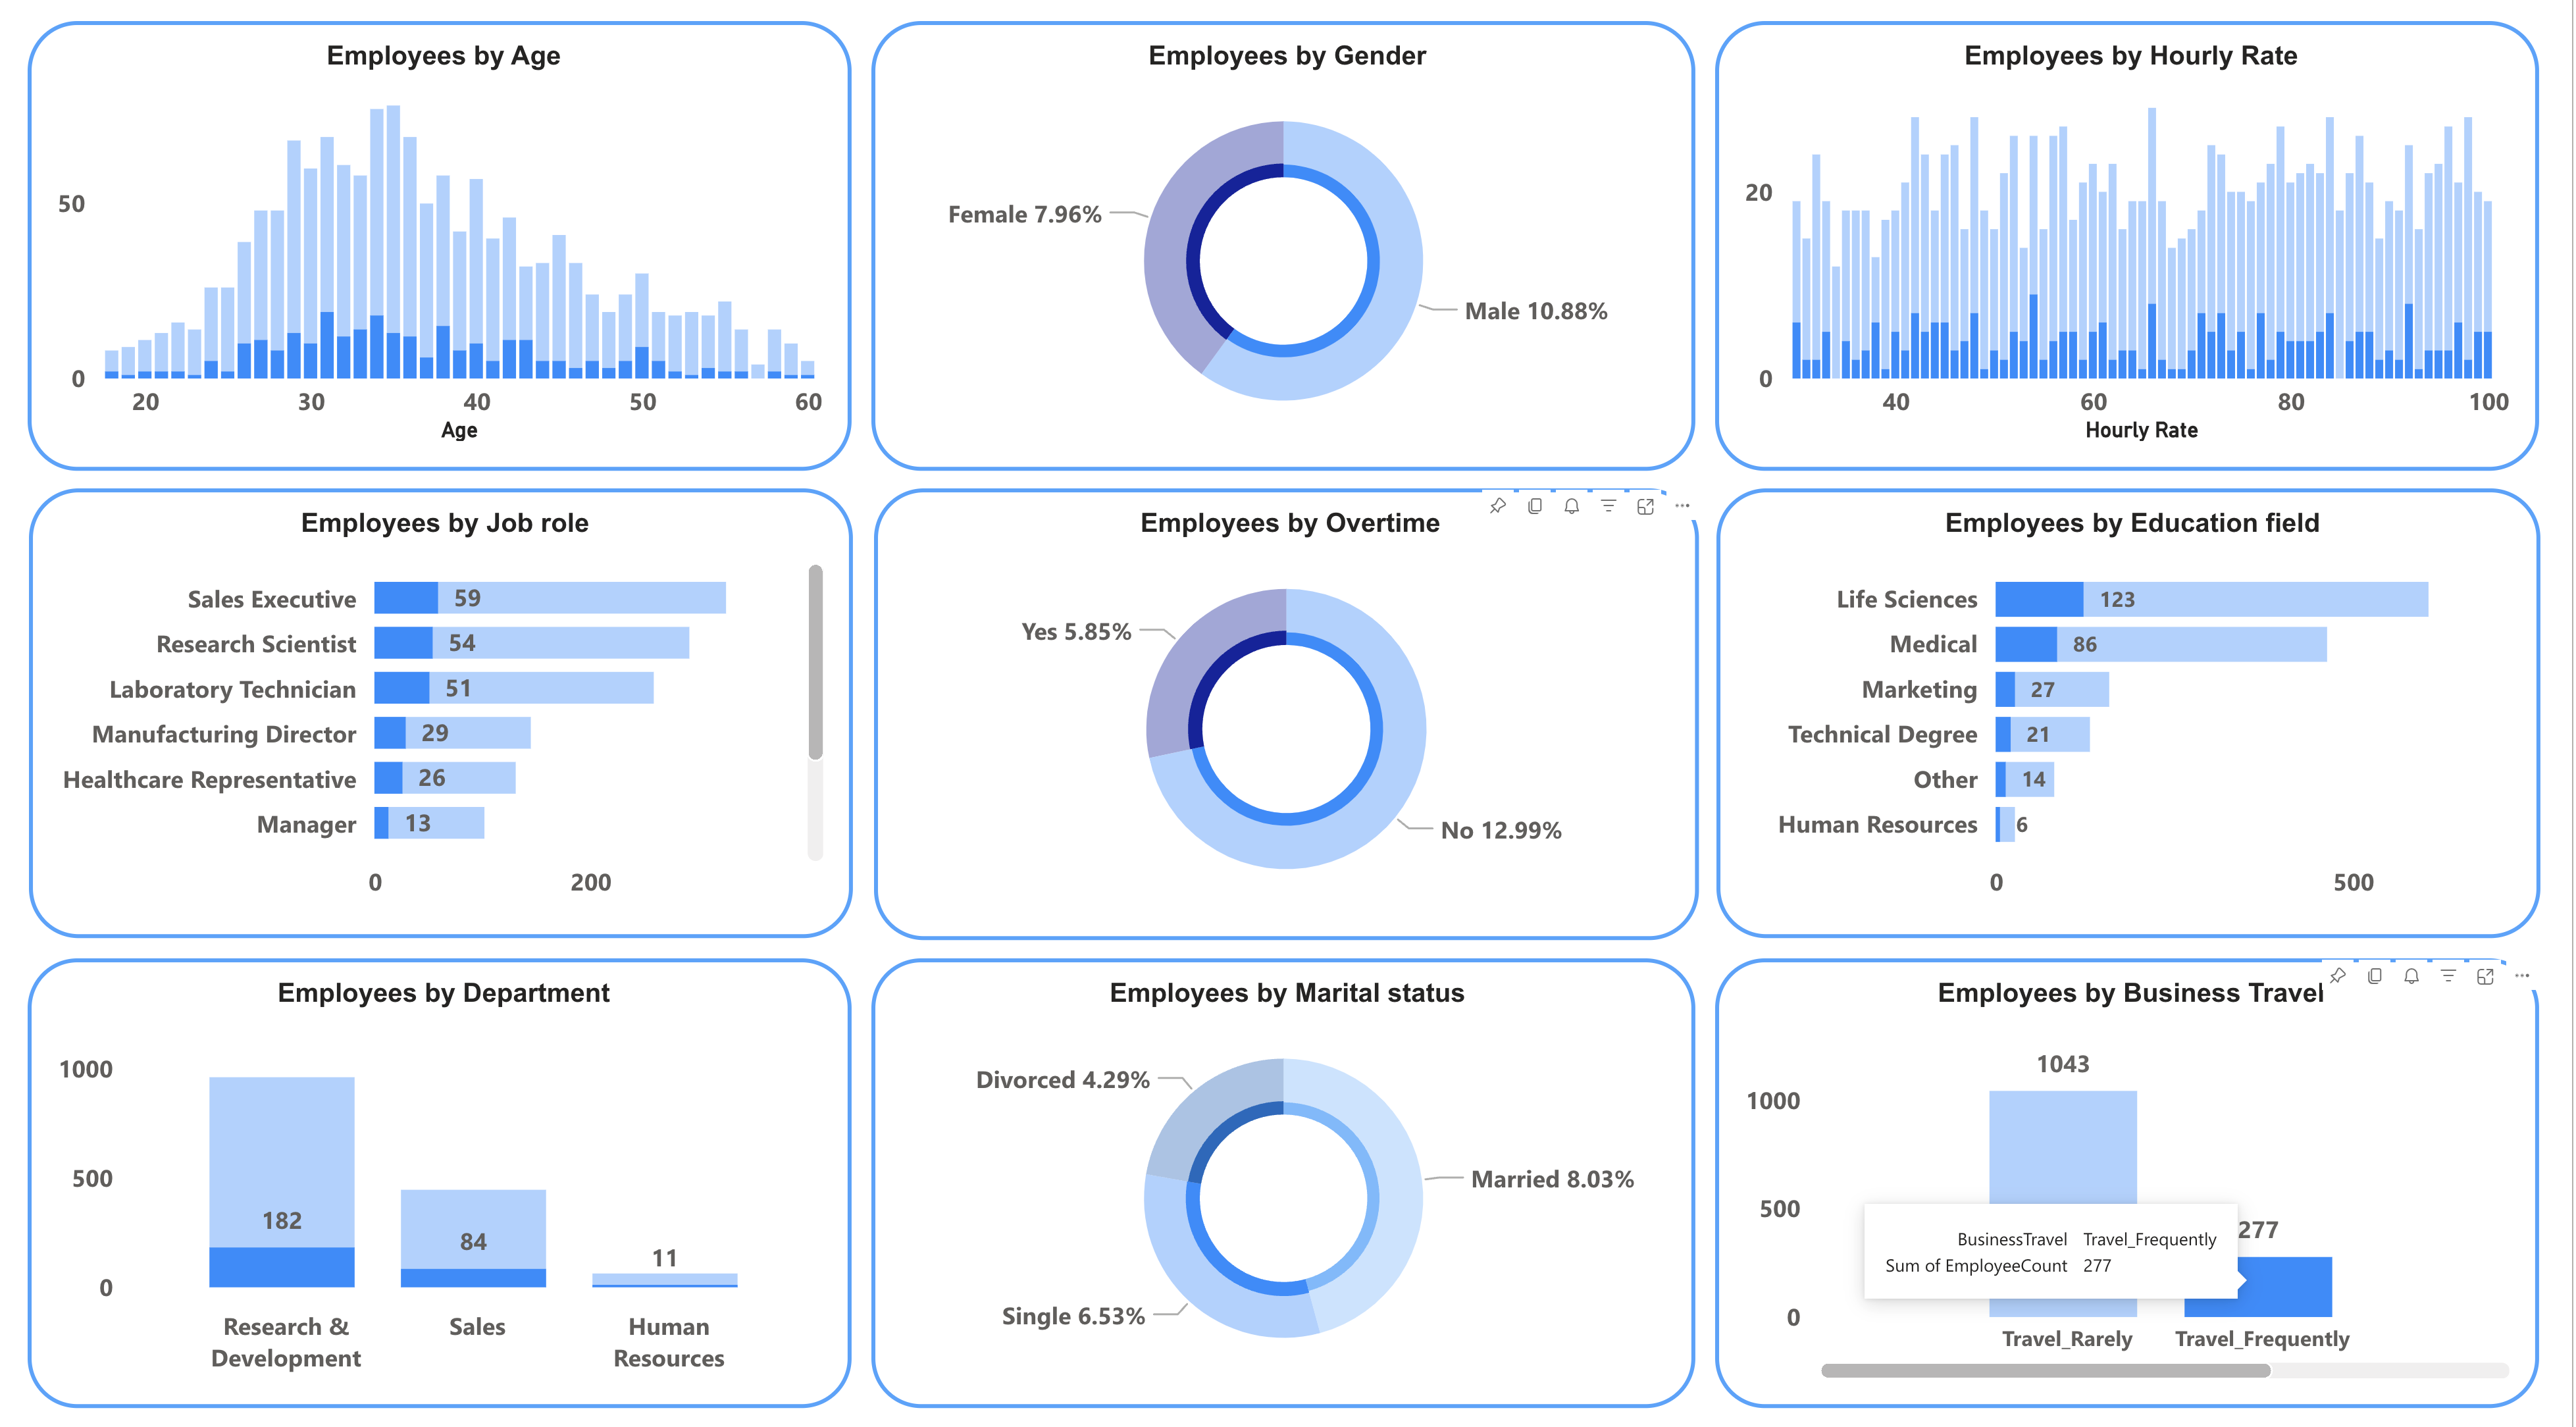

The dashboard page shown, as its layout file describes it:
{"tool":"powerbi","page":{"name":"Page 1","canvas":[1280,720],"ordinal":0},"visuals":[{"type":"columnChart","title":"Employees by Age","fields":{"Category":["IBM data.Age"],"Y":["Sum(IBM data.EmployeeCount)"]},"box":[6.5,12.1,415.2,226.6],"z":0},{"type":"donutChart","title":"Employees by Gender","fields":{"Y":["Sum(IBM data.EmployeeCount)"],"Category":["IBM data.Gender"]},"box":[431.9,12.1,415.2,226.6],"z":1000},{"type":"columnChart","title":"Employees by Hourly Rate","fields":{"Y":["Sum(IBM data.EmployeeCount)"],"Category":["IBM data.HourlyRate"]},"box":[856.4,12.1,415.2,226.6],"z":2000},{"type":"barChart","title":"Employees by Education field","fields":{"Y":["Sum(IBM data.EmployeeCount)"],"Category":["IBM data.EducationField"]},"box":[857.4,247.1,415.2,226.6],"z":3000},{"type":"donutChart","title":"Employees by Marital status","fields":{"Y":["Sum(IBM data.EmployeeCount)"],"Category":["IBM data.MaritalStatus"]},"box":[431.9,483.9,415.2,226.6],"z":4000},{"type":"columnChart","title":"Employees by Department","fields":{"Y":["Sum(IBM data.EmployeeCount)"],"Category":["IBM data.Department"]},"box":[6.5,483.9,415.2,226.6],"z":5000},{"type":"barChart","title":"Employees by Job role","fields":{"Y":["Sum(IBM data.EmployeeCount)"],"Category":["IBM data.JobRole"]},"box":[7.4,247.1,415.2,226.6],"z":6000},{"type":"columnChart","title":"Employees by Business Travel","fields":{"Y":["Sum(IBM data.EmployeeCount)"],"Category":["IBM data.BusinessTravel"]},"box":[856.4,483.9,415.2,226.6],"z":7000},{"type":"donutChart","title":"Employees by Overtime","fields":{"Y":["Sum(IBM data.EmployeeCount)"],"Category":["IBM data.OverTime"]},"box":[433.1,247.5,415.4,227.4],"z":7001}]}

Visuals, with their boxes in screenshot pixels (x1, y1, x2, y2), scaled from the page's 1280x720 canvas onto the 2576x1427 screenshot:
"Employees by Age" columnChart: (13, 24, 848, 473)
"Employees by Gender" donutChart: (869, 24, 1705, 473)
"Employees by Hourly Rate" columnChart: (1724, 24, 2559, 473)
"Employees by Education field" barChart: (1726, 490, 2561, 939)
"Employees by Marital status" donutChart: (869, 959, 1705, 1408)
"Employees by Department" columnChart: (13, 959, 848, 1408)
"Employees by Job role" barChart: (15, 490, 850, 939)
"Employees by Business Travel" columnChart: (1724, 959, 2559, 1408)
"Employees by Overtime" donutChart: (871, 490, 1708, 941)
